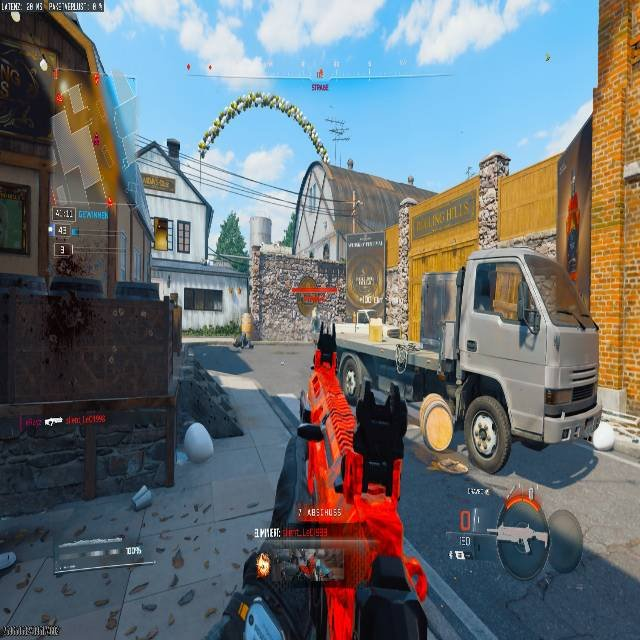player: (53, 243, 80, 278)
